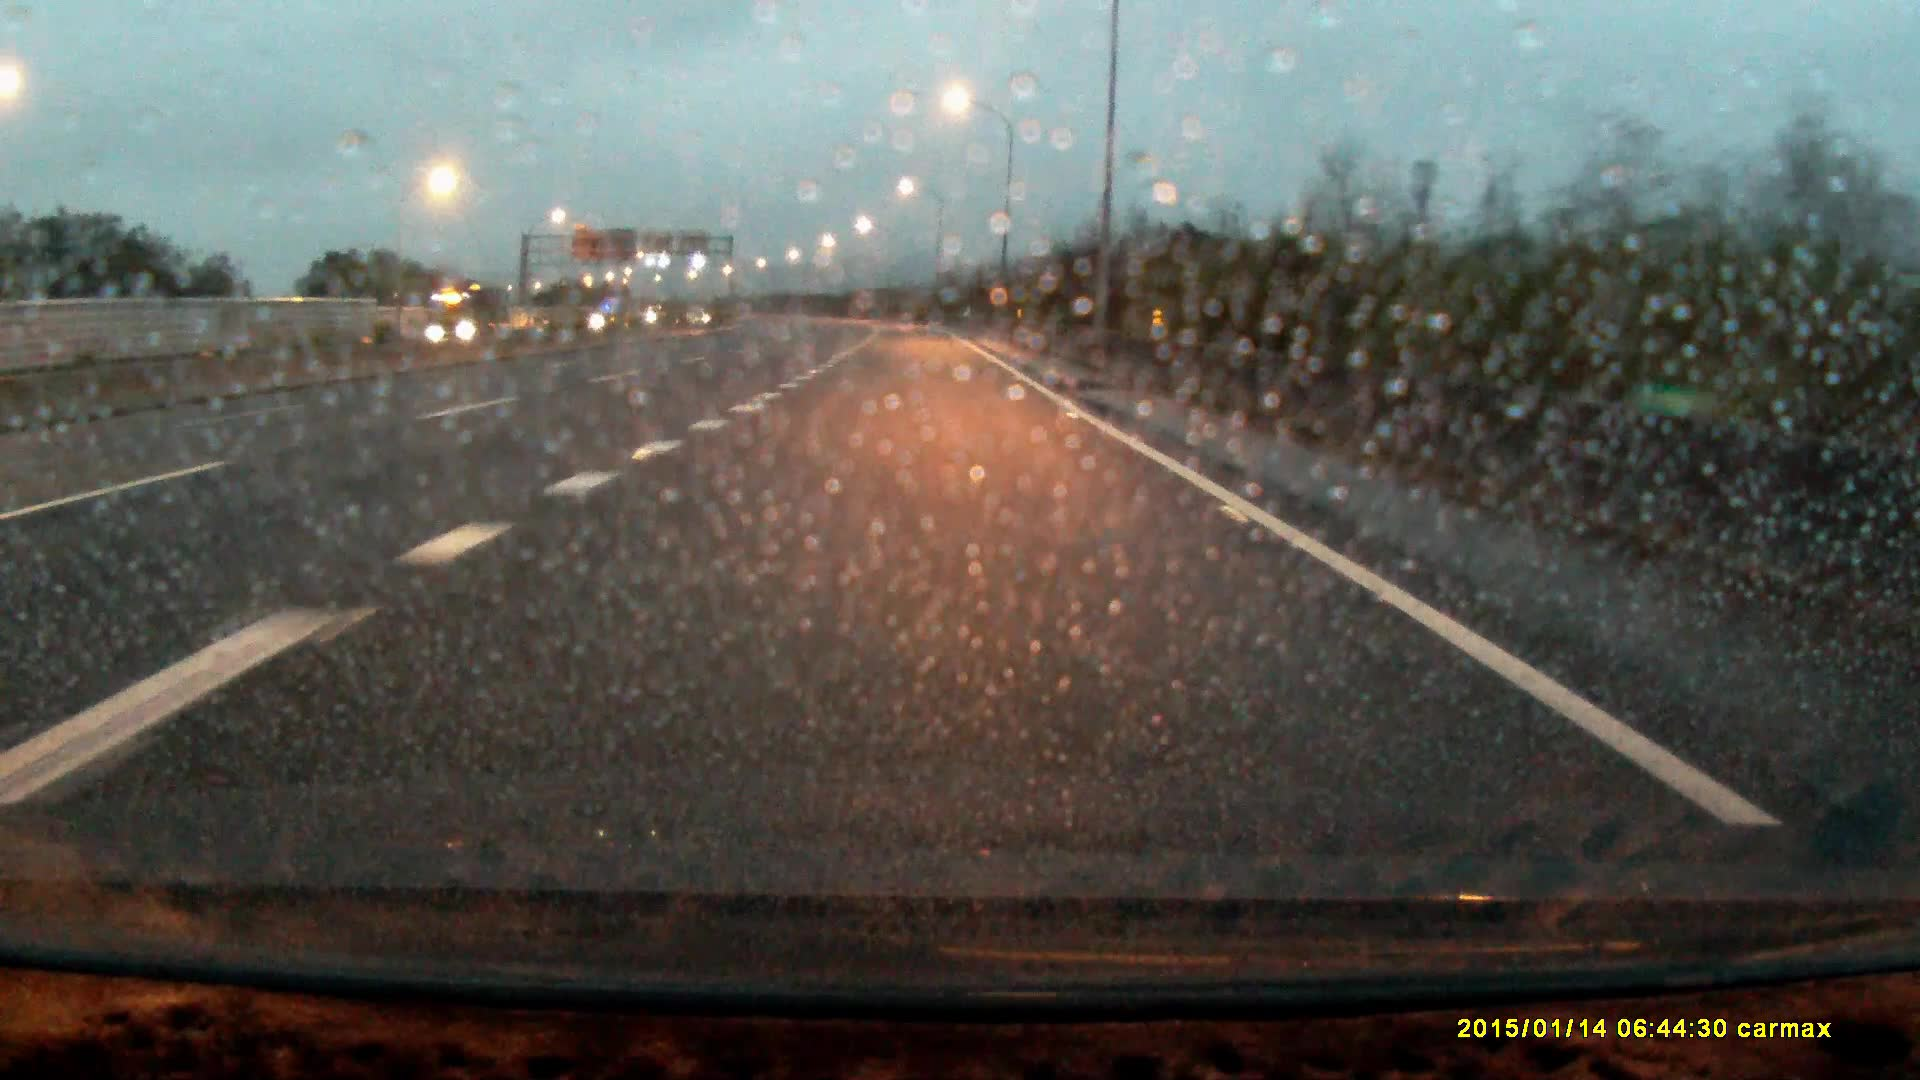vehicle: (429, 291, 498, 342)
